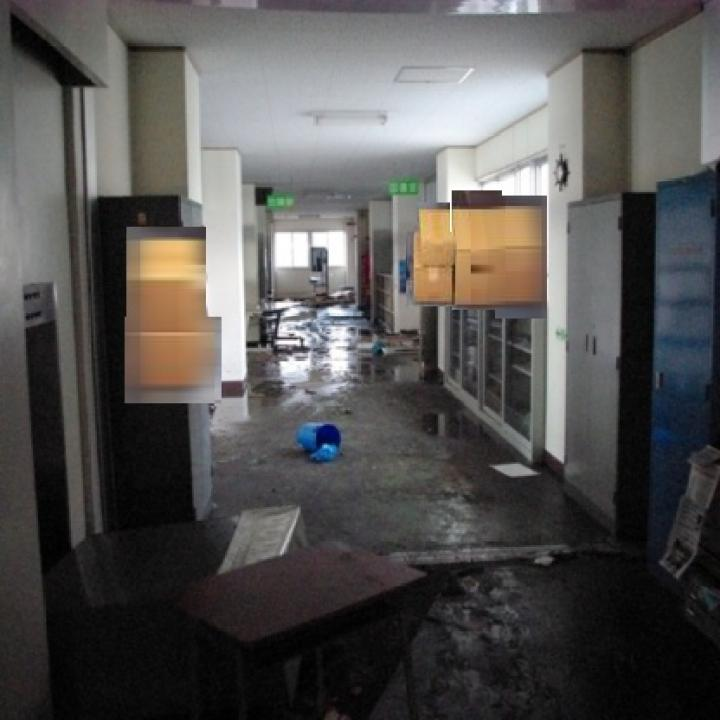box: (124, 317, 224, 405), (126, 227, 208, 332), (495, 195, 549, 321), (452, 189, 502, 313), (406, 232, 452, 308), (417, 202, 452, 265)
